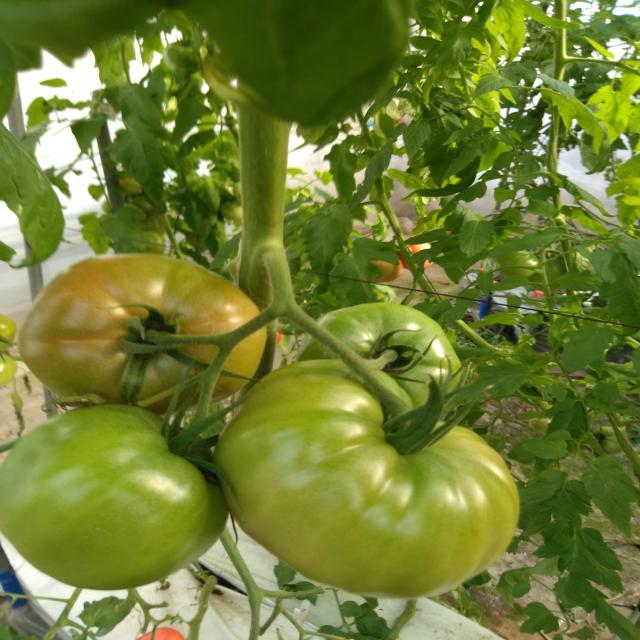yesil: (6, 236, 529, 598)
